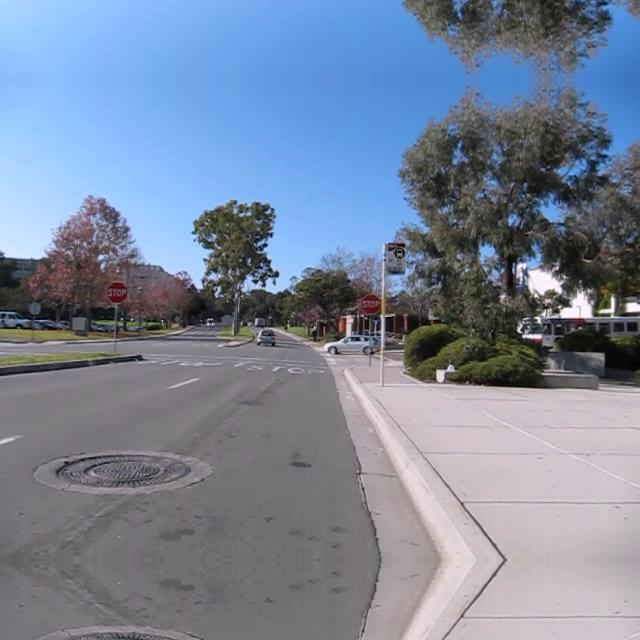stop: (104, 280, 128, 304), (358, 292, 382, 314)
